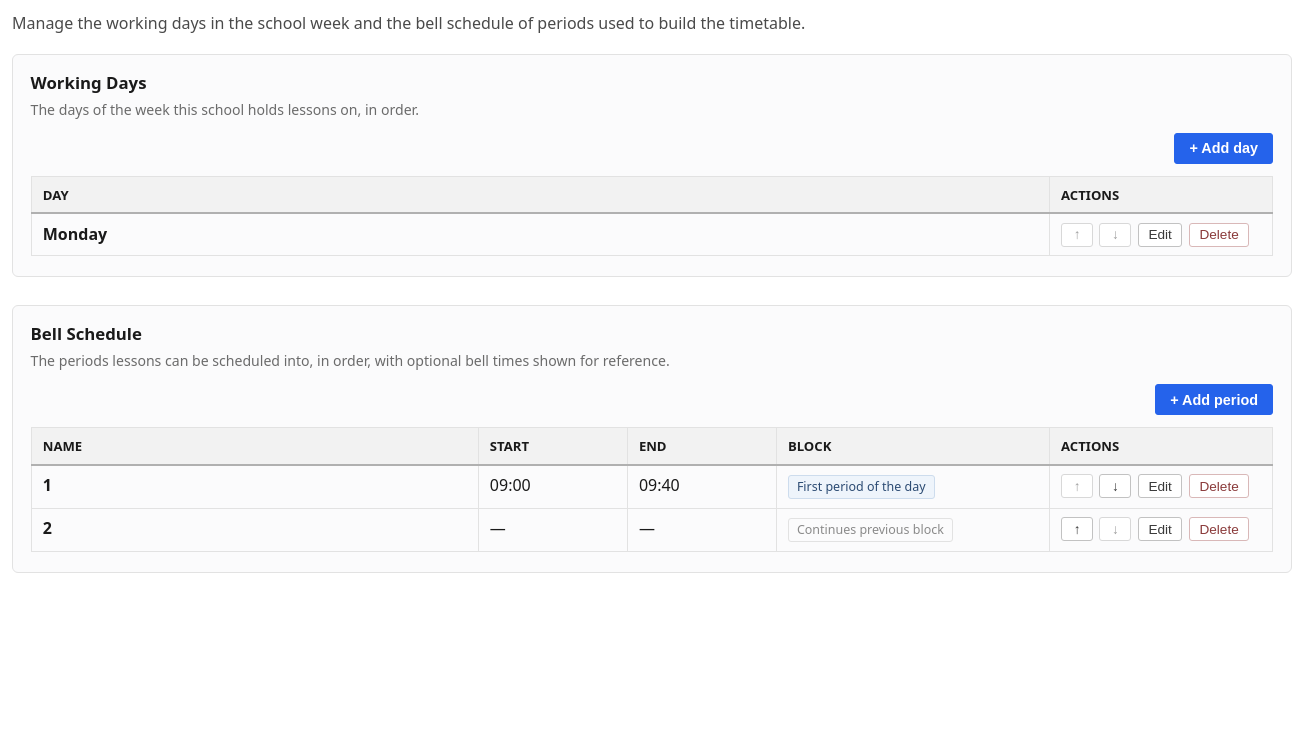
Test case: CalendarBellSchedulePanel › Working Days › maps the final-Day rejection (NO_CALENDAR_DAYS) to a friendly message
Expected: the column heading "Monday" is shown, [31, 213, 1049, 256]
Click the button "Delete" in the row of "Monday" at (1219,235), box [1189, 223, 1249, 247]
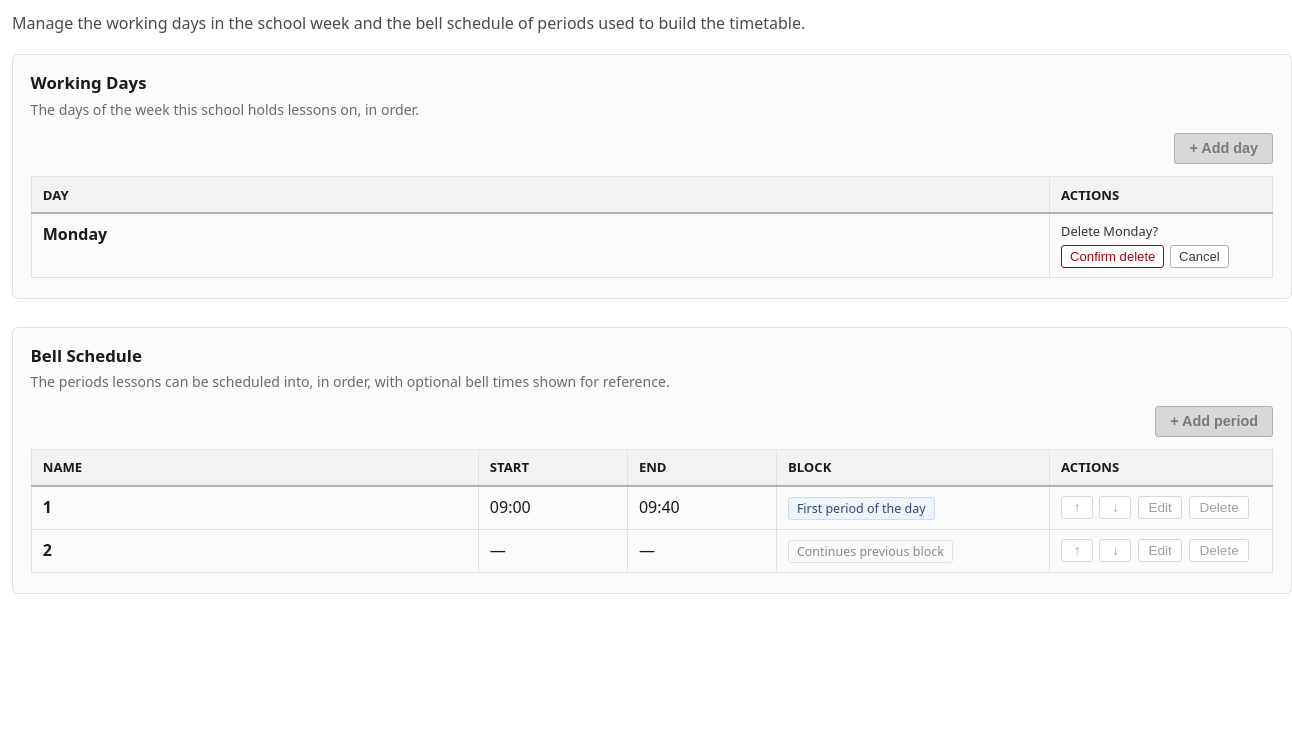
Click the button "Confirm delete" at (1113,256), box [1061, 245, 1164, 268]
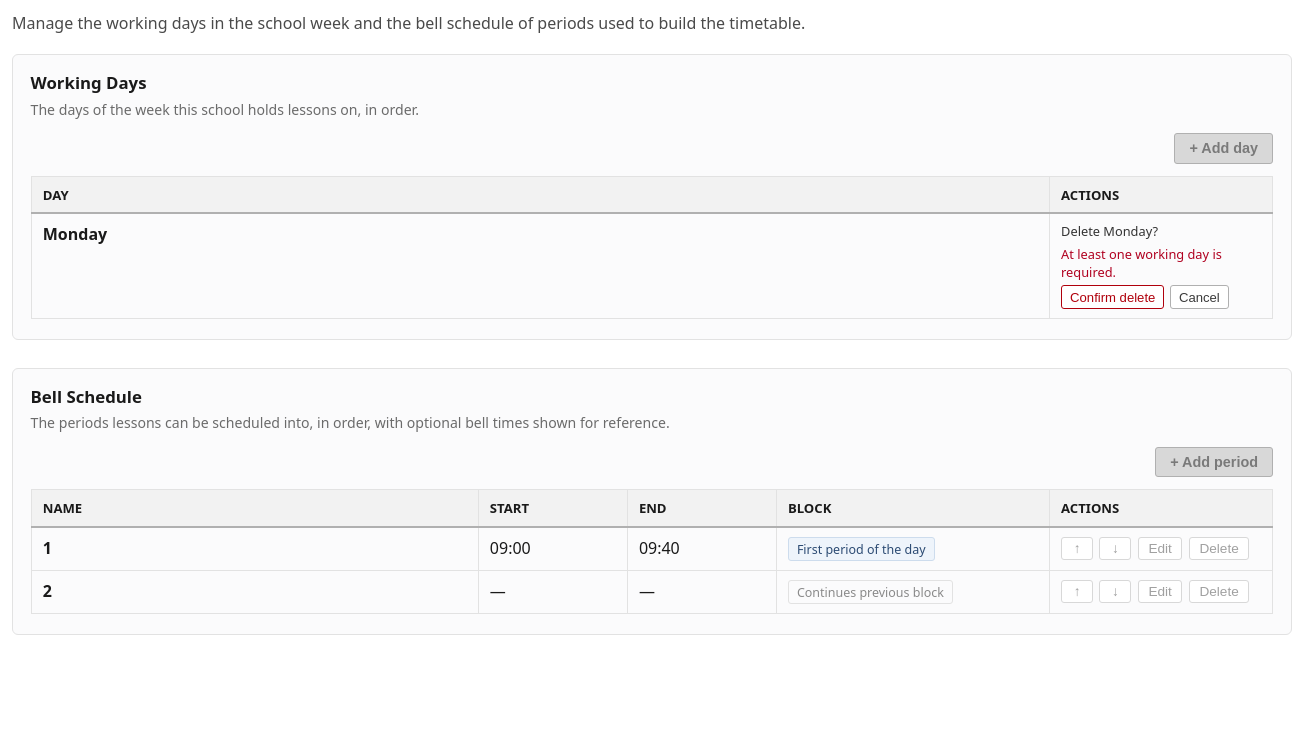
Result: the text "At least one working day is required." is shown at [1061, 245, 1222, 281]
